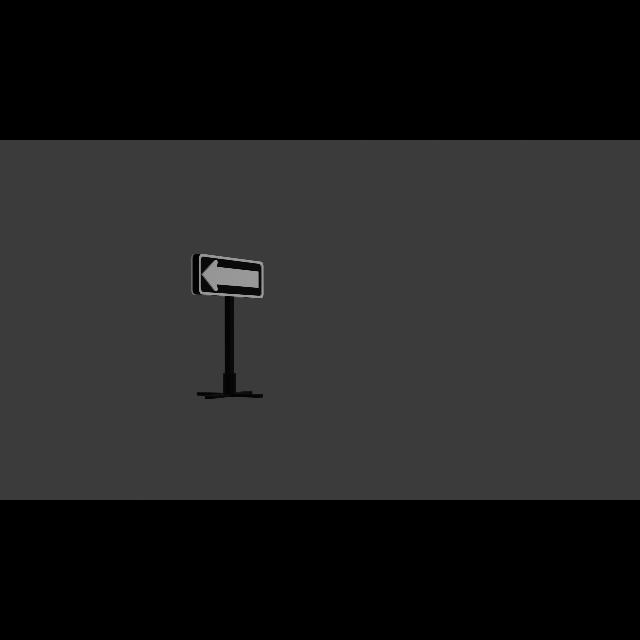sign_oneway_left: (192, 255, 266, 302)
